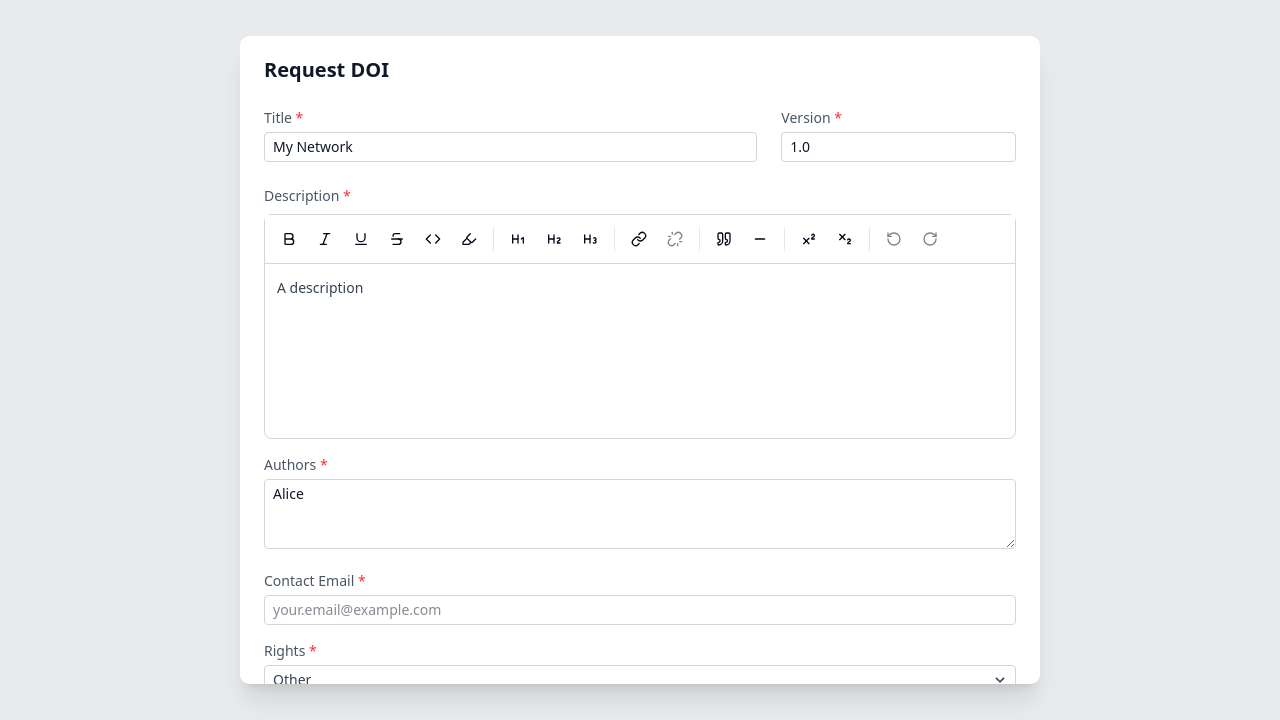
Scenario: CreateDOIDialog › confirmation before the request is filed › describes the pre-certified outcome differently
Type "alice@example.com" into the field with placeholder "your.email@example.com". click: [640, 610]
box: [264,595,1016,625]
(page scrolled)
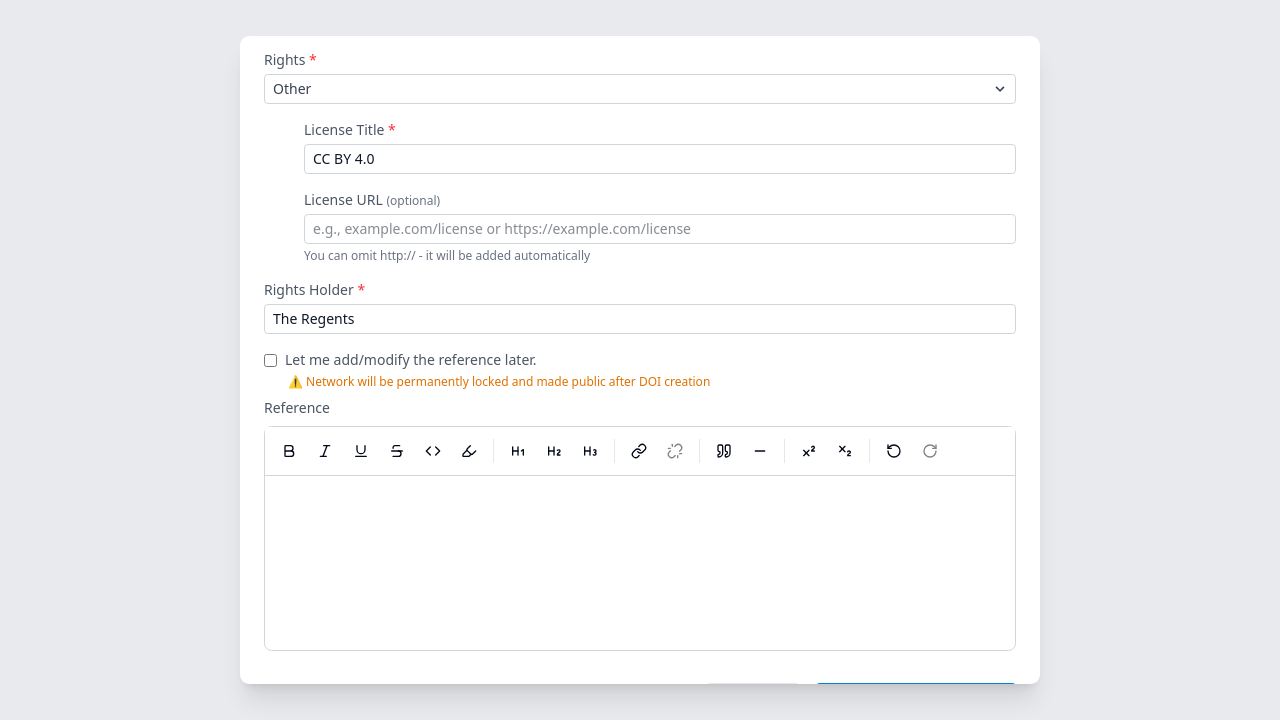
Click the checkbox labelled "Let me add/modify the reference later.". click: [270, 360]
box: [264,354,277,366]
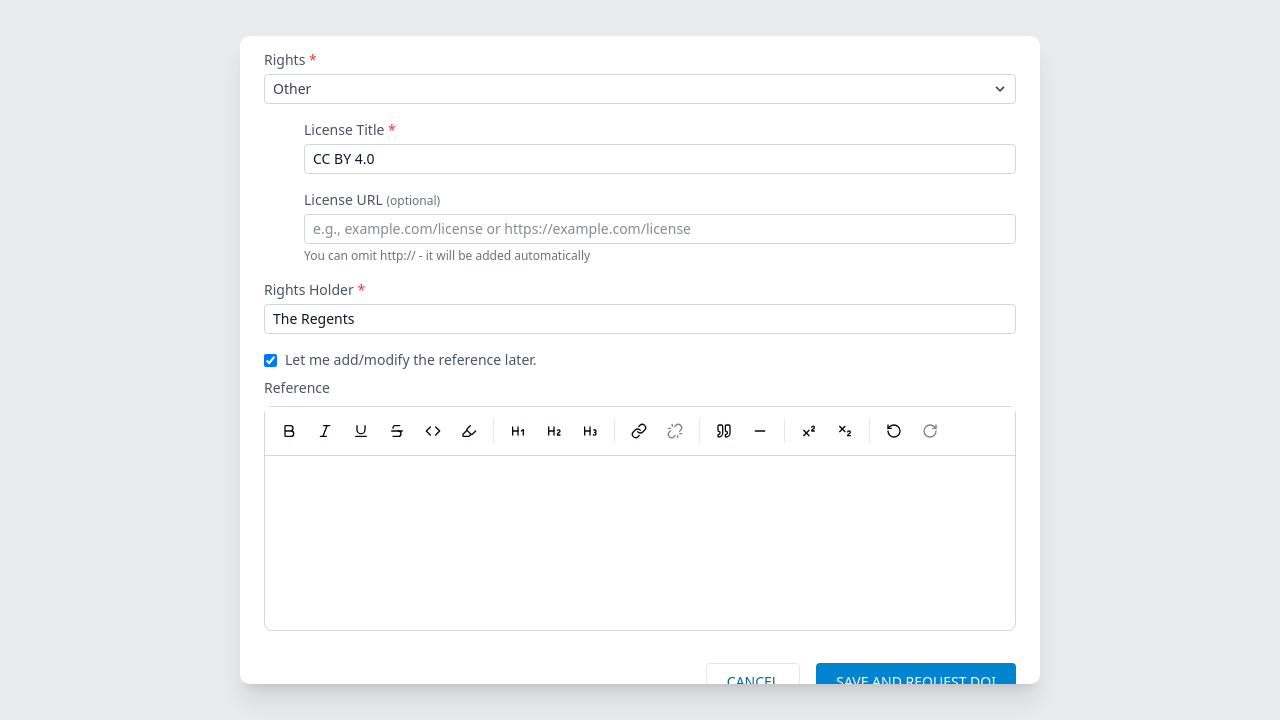
Click the button "SAVE AND REQUEST DOI". click: [916, 682]
box: [816,663,1016,701]
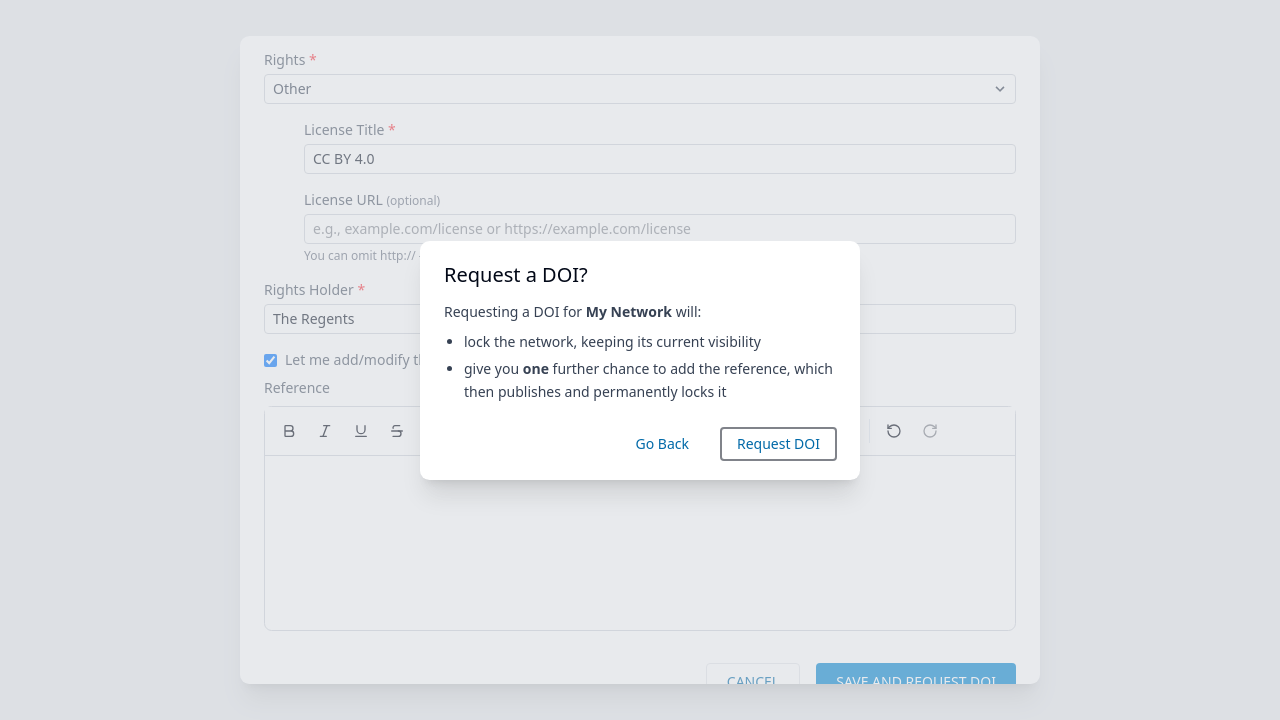
Now the dialog "Request a DOI?" shows "keeping its current visibility", box [464,332,761,351]
Now the dialog "Request a DOI?" shows "one", box [523,359,549,378]
